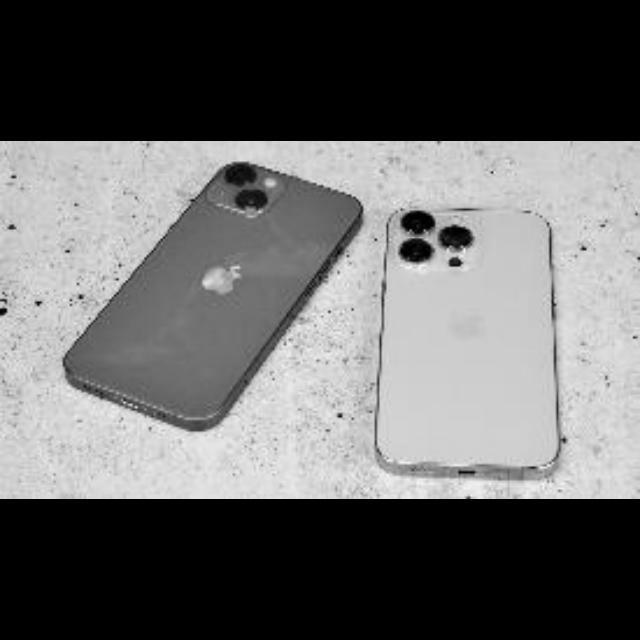fake: (47, 156, 372, 452), (372, 188, 563, 471)
